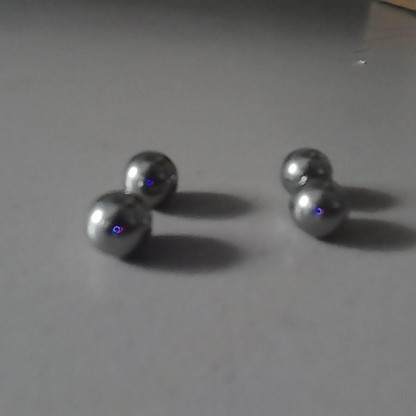ironball: (83, 190, 151, 259), (294, 181, 347, 240), (122, 150, 176, 204), (281, 146, 329, 195)
